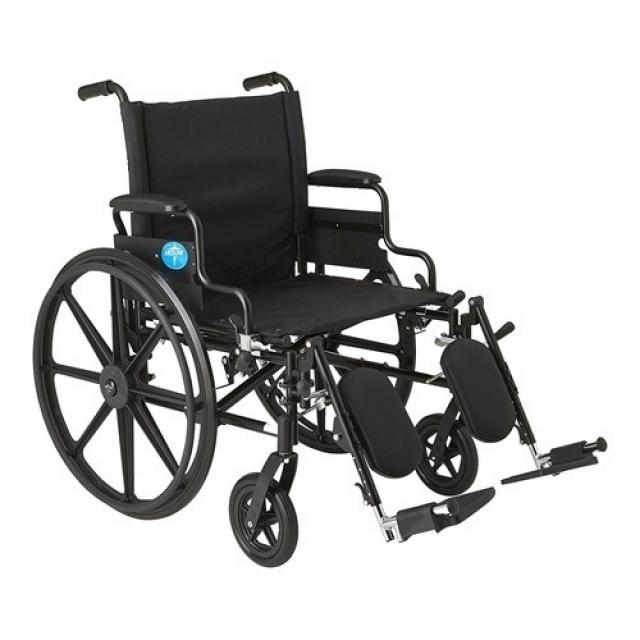wheelchair: (30, 53, 620, 574)
